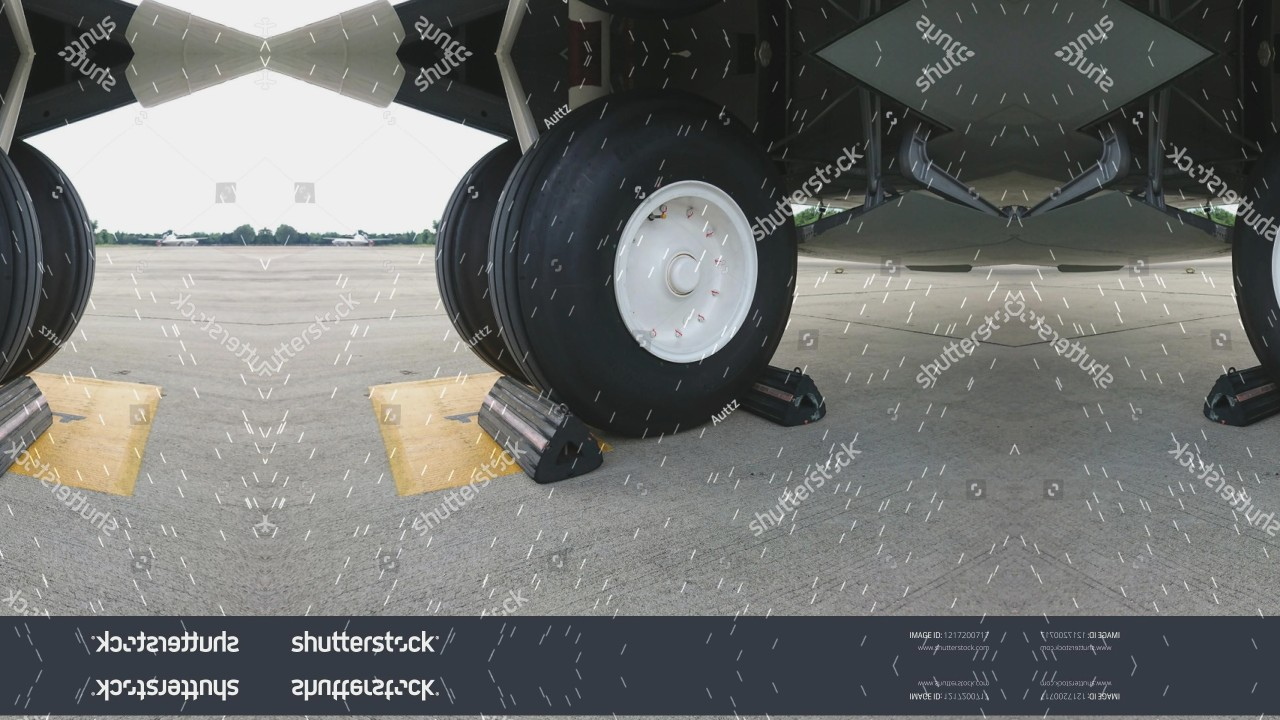chock: (477, 374, 603, 484), (732, 357, 828, 428), (0, 374, 53, 484), (1202, 357, 1280, 428)
wheel: (501, 90, 782, 437), (432, 137, 535, 380), (0, 137, 98, 380), (1248, 90, 1280, 437), (0, 90, 29, 437)
